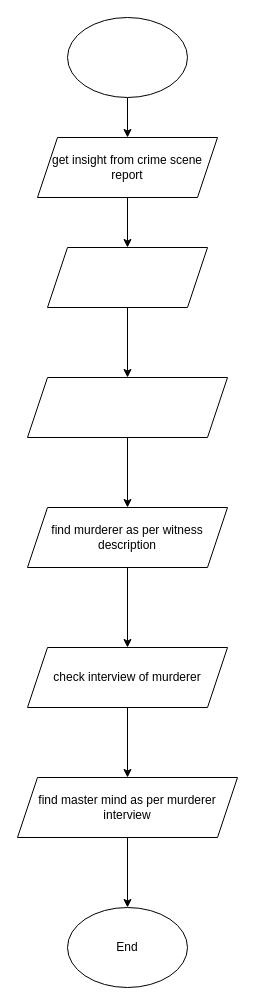
Image size: 255x1005. Some labels were removed from this diagram. The shapes that lost their labels are listed below. From the top down, each one's centre as x and y in pixels, then its label:
At point 127,57: "Read Instruction Carefully".
At point 127,277: "observe witness details".
At point 127,407: "check interview of witnessess".
